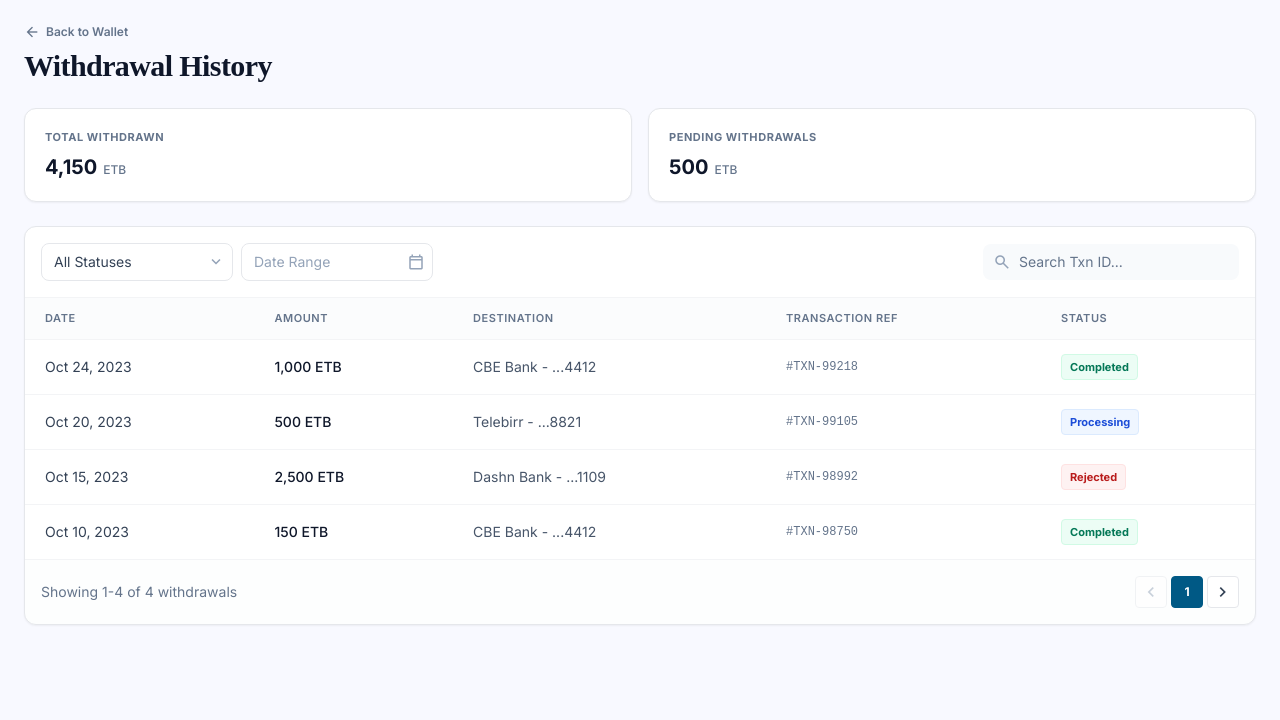
it: Ethosk - Withdrawal History (Photo-Aligned) (Stitch Screen 260175667ecb434f97f9779c54370059) › filters transactions by status
This screenshot has width=1280, height=720.
Select "Processing" in the dropdown at {"x": 137, "y": 262}, box [41, 243, 233, 281]
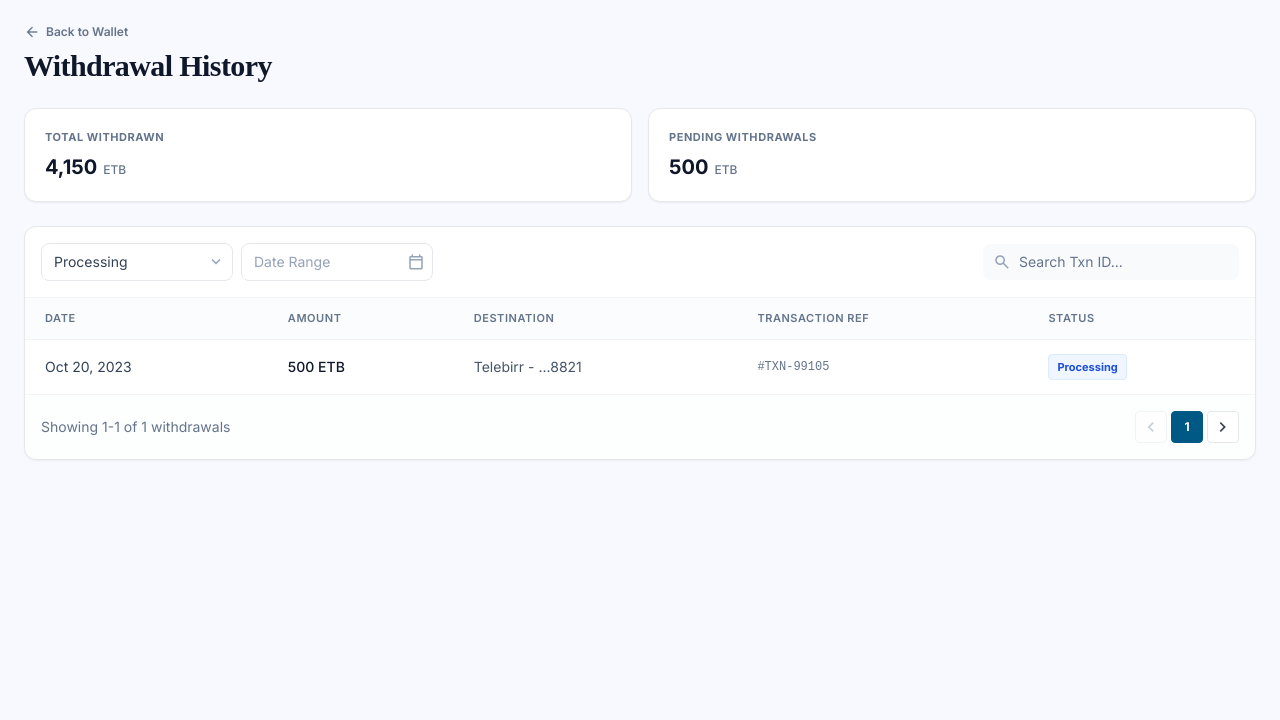
Expected: the text "#TXN-99218" is gone
